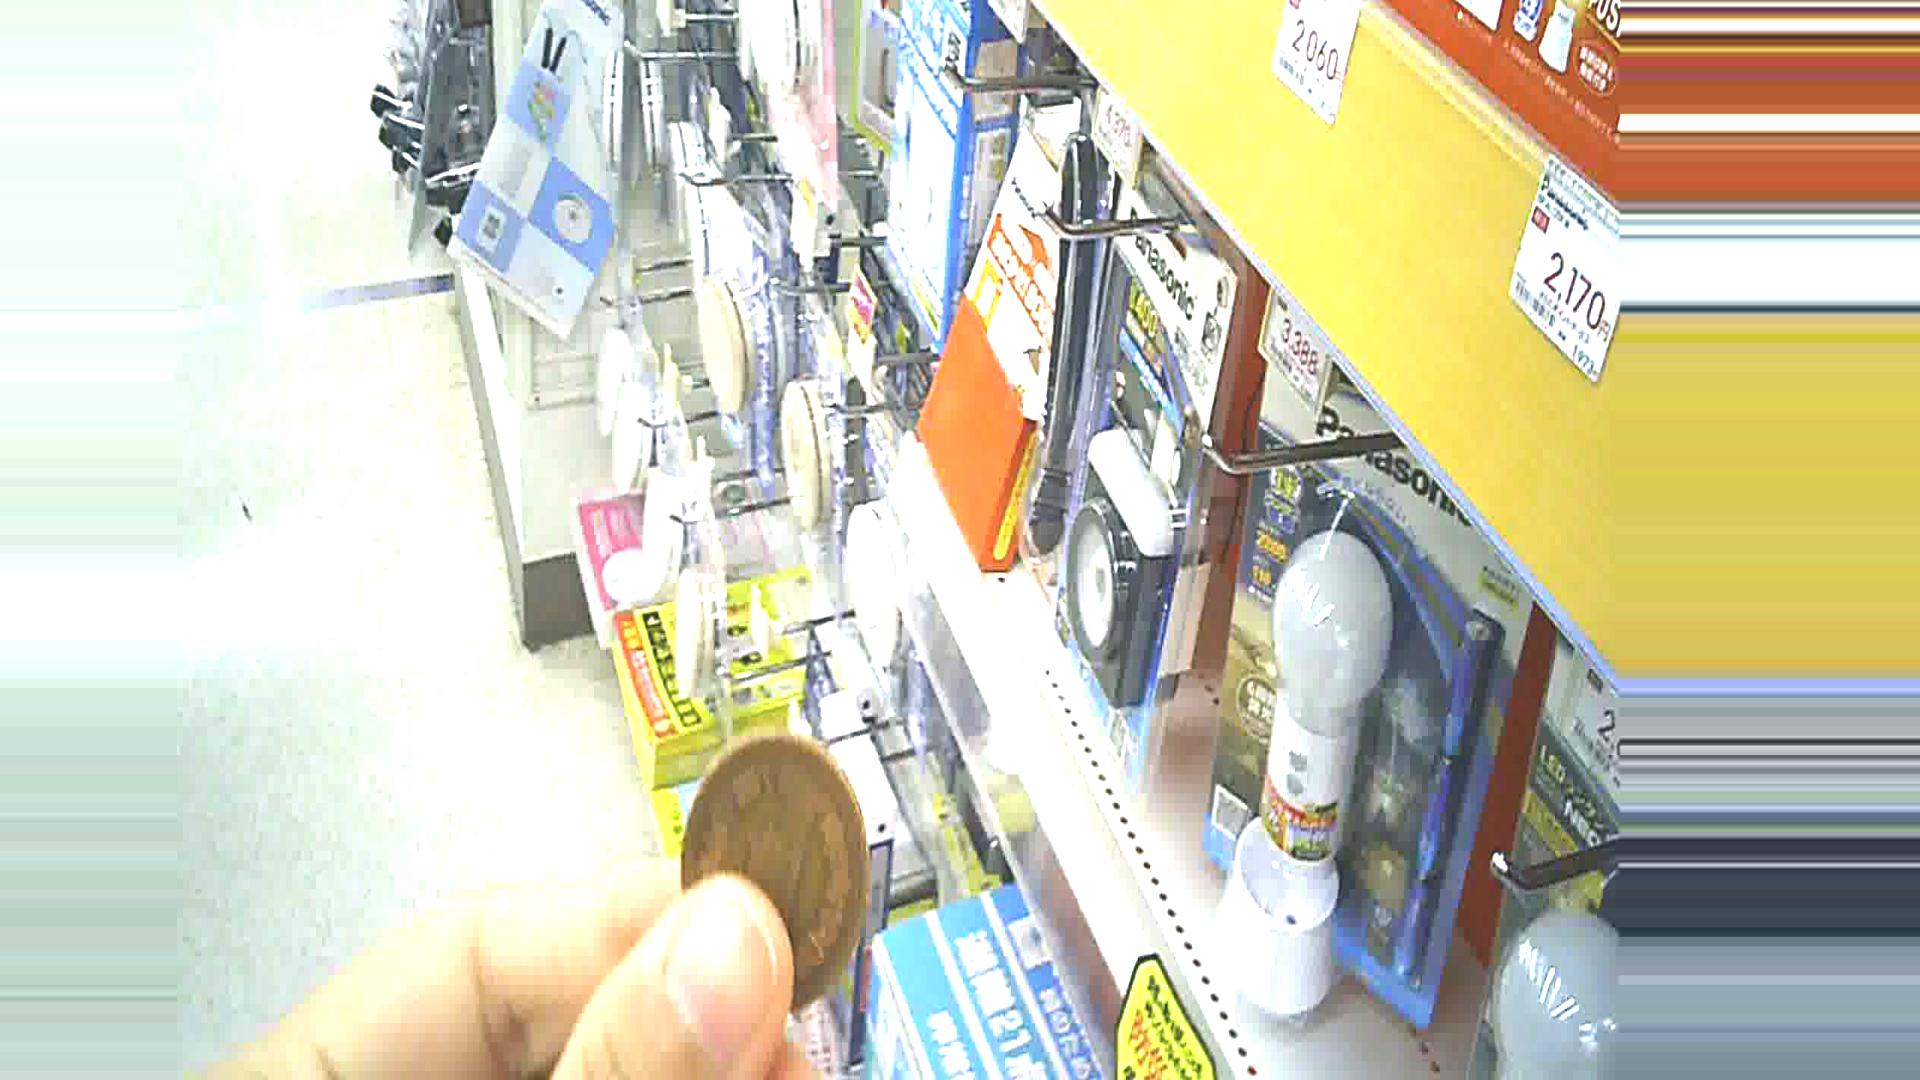10 Yen: (665, 736, 862, 992)
